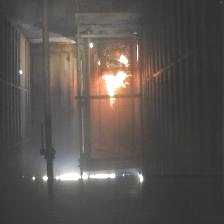fire: (96, 69, 133, 107)
